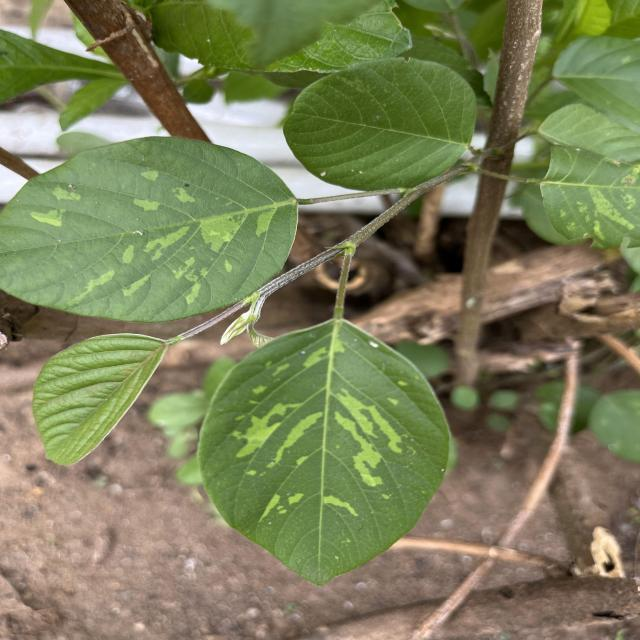Desmodium gangeticum: (190, 314, 458, 589), (0, 132, 301, 324)
